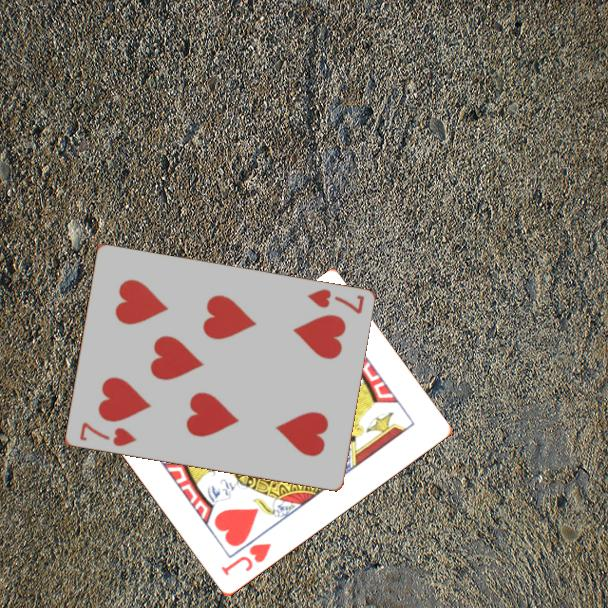h07: (303, 286, 367, 317), (76, 419, 139, 450)
h11: (217, 540, 274, 579)
